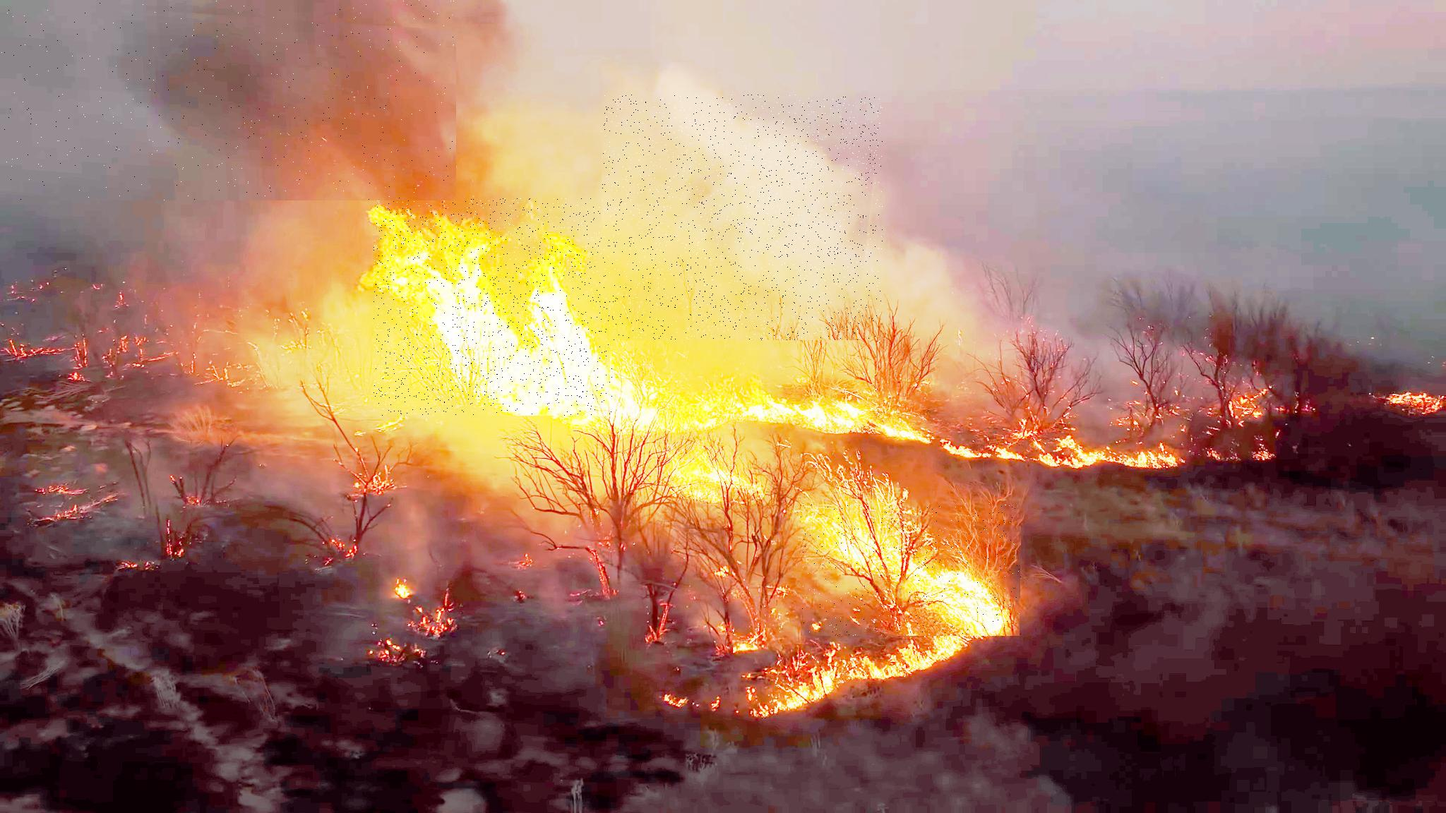fire: (374, 198, 614, 416), (801, 503, 1021, 636)
smoke: (0, 0, 456, 200), (602, 95, 883, 340)
